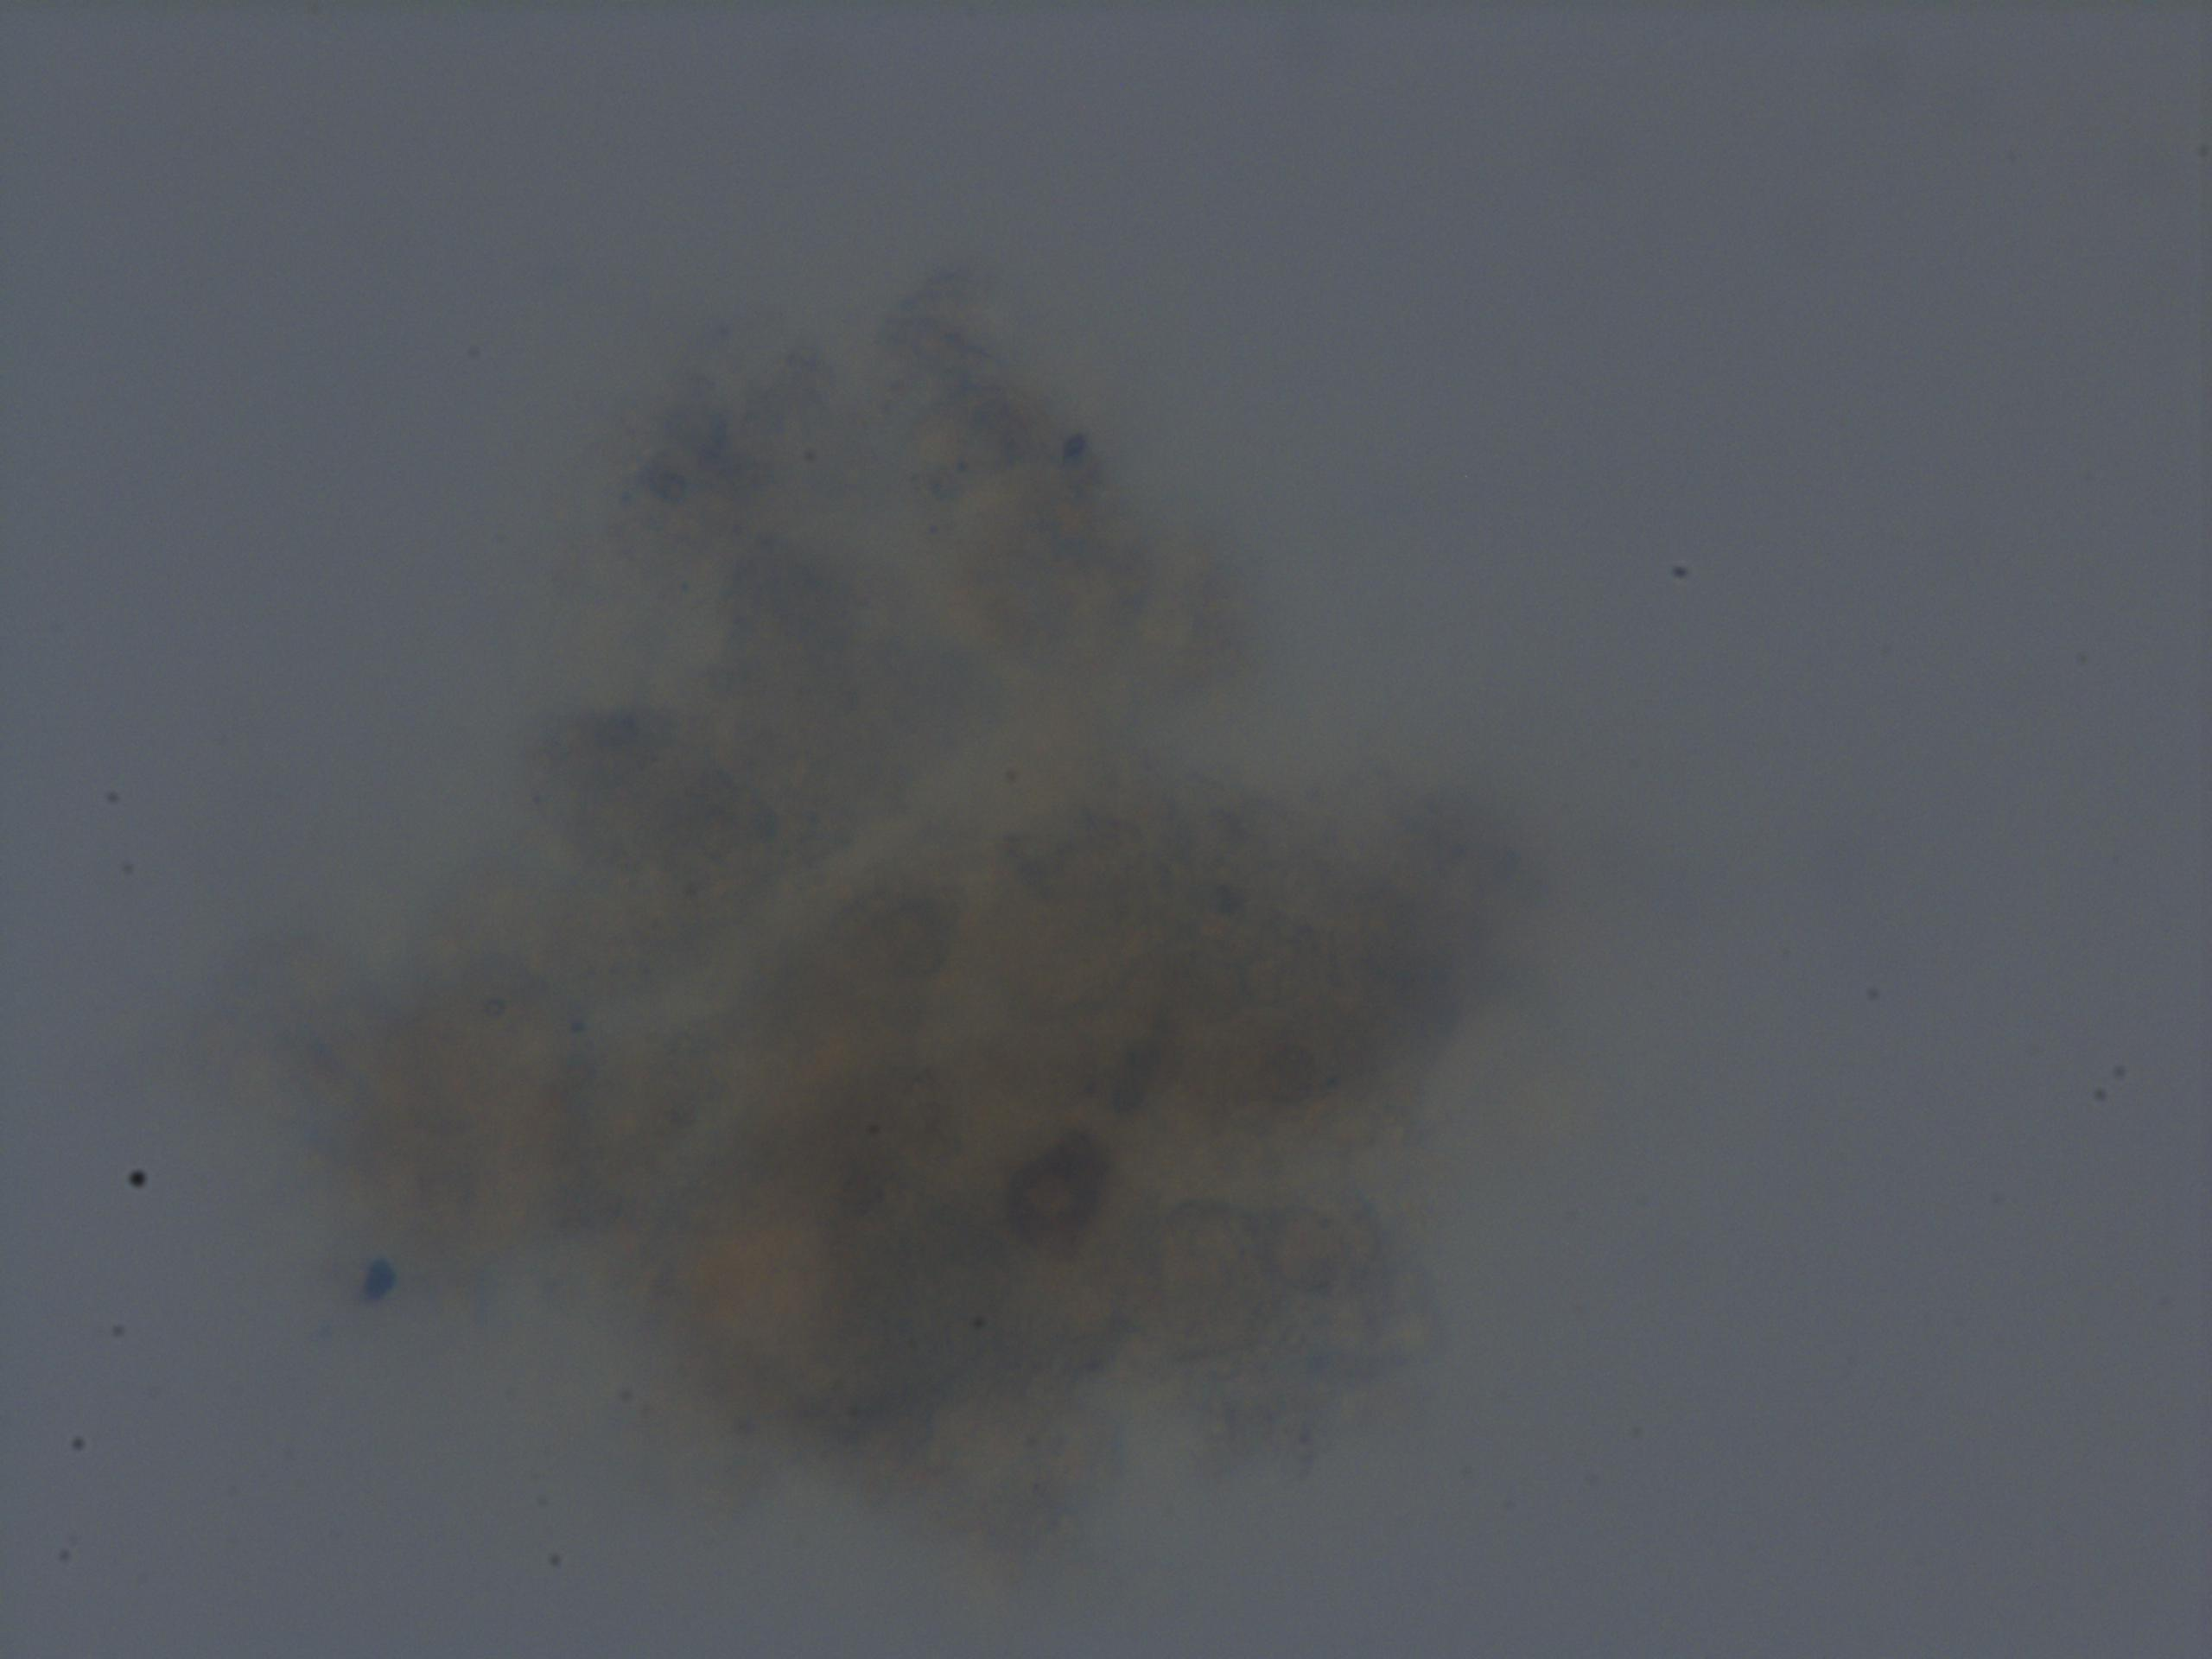open_floc: (242, 260, 1568, 1539)
